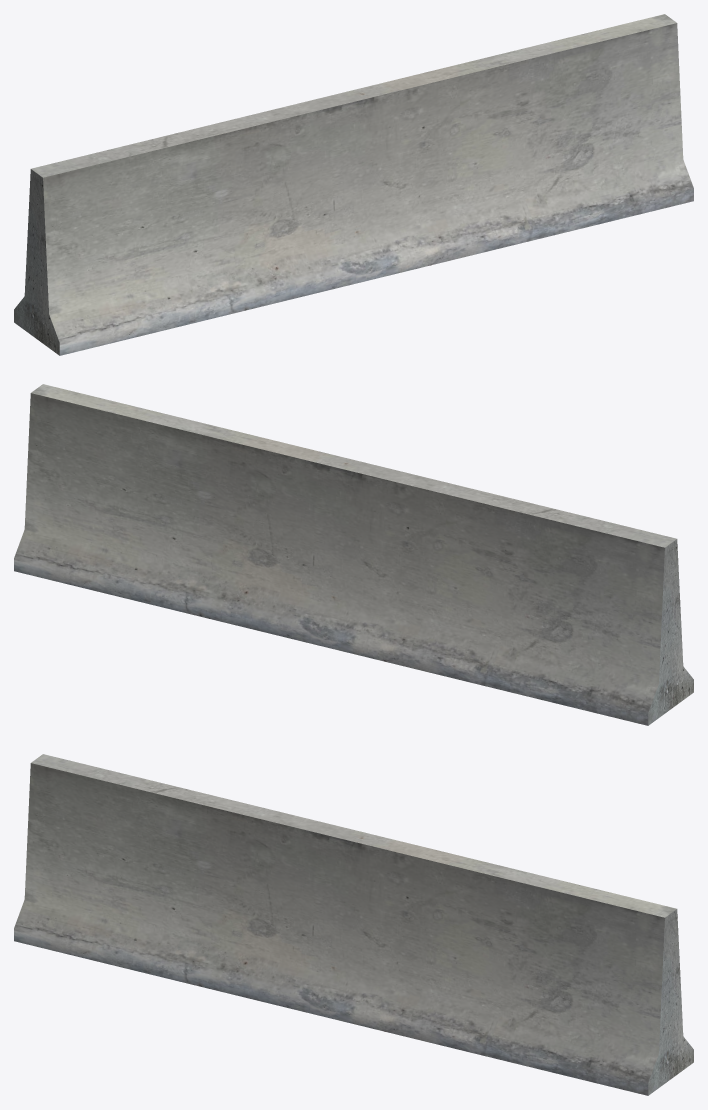
File: traffic_barrier.glb
3 renders of one model, top to bottom at view 1: azimuth 30°, elevation 25°; view 2: azimuth 150°, elevation 25°; view 3: azimuth 330°, elevation 25°, orthographic.
Visible parts, largest first — view 1: Cylinder; view 2: Cylinder; view 3: Cylinder.
Part boxes in pixels (box(x1,y1,x2,y2)): Cylinder: box(14, 14, 693, 355); Cylinder: box(14, 384, 693, 725); Cylinder: box(14, 754, 693, 1095).
Bounding box in the file's own units: 4 × 1 × 0.5.
Materials: 1 (1 with a texture image).
